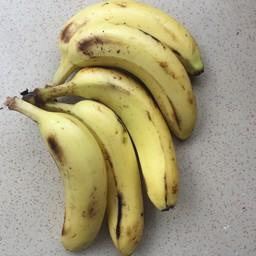Banana Ripe: (55, 47, 176, 256), (48, 5, 218, 142), (80, 49, 194, 213), (12, 90, 105, 256), (44, 4, 211, 57)
